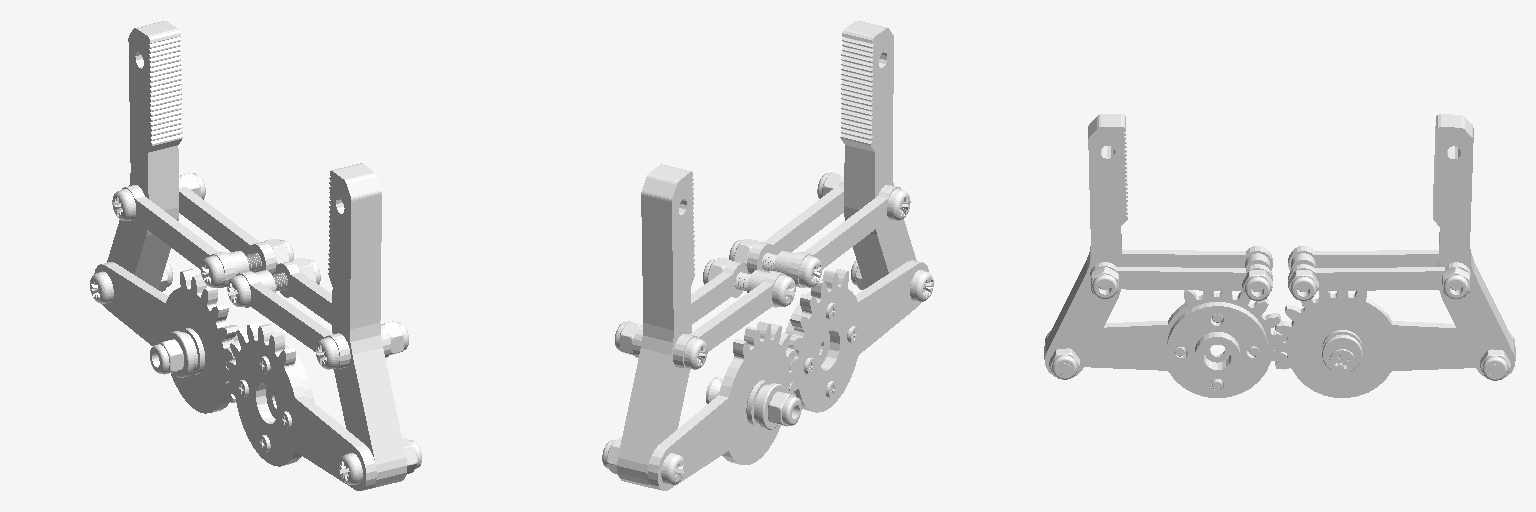
robot.urdf — dofbot:
<?xml version="1.0" ?>
<!-- =================================================================================== -->
<!-- |    This document was autogenerated by xacro from /home/roberto/Dev/robot-x/mujoco_ws/install/robotx_description/share/robotx_description/urdf/robotx_position.urdf | -->
<!-- |    EDITING THIS FILE BY HAND IS NOT RECOMMENDED                                 | -->
<!-- =================================================================================== -->
<robot name="dofbot">
  <!-- ================= MATERIALS ================= -->
  <material name="black">
    <color rgba="0 0 0 1"/>
  </material>
  <material name="green">
    <color rgba="0 1 0 1"/>
  </material>
  <material name="white">
    <color rgba="1 1 1 1"/>
  </material>
  <material name="gray">
    <color rgba="0.59 0.66 0.68 1"/>
  </material>
  <material name="light_green">
    <color rgba="0 0.63 0.23 1"/>
  </material>
  <!-- ================= INERTIAS ================= -->
  <link name="base_link">
    <visual>
      <origin rpy="0 0 0" xyz="0 0 0"/>
      <geometry>
        <mesh filename="package://robotx_description/meshes/base_link.STL"/>
      </geometry>
      <material name="gray">
        </material>
    </visual>
    <collision>
      <origin rpy="0 0 0" xyz="0 0 0"/>
      <geometry>
        <mesh filename="package://robotx_description/meshes/base_link_collider.STL"/>
      </geometry>
    </collision>
    <inertial>
      <origin rpy="0 0 0" xyz="-0.048241 -0.000057 0.021293"/>
      <mass value="0.369954"/>
      <inertia ixx="0.000627914" ixy="5.42014e-07" ixz="-0.000320848" iyy="0.00206292" iyz="5.68107e-07" izz="0.00210302"/>
    </inertial>
  </link>
  <link name="link1">
    <visual>
      <origin rpy="0 0 0" xyz="0 0 0"/>
      <geometry>
        <mesh filename="package://robotx_description/meshes/link1.STL"/>
      </geometry>
      <material name="light_green">
        </material>
    </visual>
    <collision>
      <origin rpy="0 0 0" xyz="0 0 0"/>
      <geometry>
        <mesh filename="package://robotx_description/meshes/link1_collider.STL"/>
      </geometry>
    </collision>
    <inertial>
      <origin rpy="0 0 0" xyz="0.000000 -0.000058 0.017982"/>
      <mass value="0.052133"/>
      <inertia ixx="2.0489e-05" ixy="-4.09574e-11" ixz="-1.96858e-10" iyy="1.68449e-05" iyz="7.50244e-08" izz="1.87563e-05"/>
    </inertial>
  </link>
  <link name="link2">
    <visual>
      <origin rpy="0 0 0" xyz="0 0 0"/>
      <geometry>
        <mesh filename="package://robotx_description/meshes/link2.STL"/>
      </geometry>
      <material name="gray">
        </material>
    </visual>
    <collision>
      <origin rpy="0 0 0" xyz="0 0 0"/>
      <geometry>
        <mesh filename="package://robotx_description/meshes/link2_collider.STL"/>
      </geometry>
    </collision>
    <inertial>
      <origin rpy="0 0 0" xyz="0.024890 -0.002259 0.000081"/>
      <mass value="0.0852143"/>
      <inertia ixx="1.57532e-05" ixy="-2.3667e-06" ixz="4.10319e-07" iyy="7.18242e-05" iyz="2.04186e-08" izz="6.65029e-05"/>
    </inertial>
  </link>
  <link name="link3">
    <visual>
      <origin rpy="0 0 0" xyz="0 0 0"/>
      <geometry>
        <mesh filename="package://robotx_description/meshes/link3.STL"/>
      </geometry>
      <material name="light_green">
        </material>
    </visual>
    <collision>
      <origin rpy="0 0 0" xyz="0 0 0"/>
      <geometry>
        <mesh filename="package://robotx_description/meshes/link3_collider.STL"/>
      </geometry>
    </collision>
    <inertial>
      <origin rpy="0 0 0" xyz="0.024890 -0.002259 0.000651"/>
      <mass value="0.0852113"/>
      <inertia ixx="1.57528e-05" ixy="-2.3675e-06" ixz="3.82539e-07" iyy="7.18221e-05" iyz="2.48634e-08" izz="6.65014e-05"/>
    </inertial>
  </link>
  <link name="link4">
    <visual>
      <origin rpy="0 0 0" xyz="0 0 0"/>
      <geometry>
        <mesh filename="package://robotx_description/meshes/link4.STL"/>
      </geometry>
      <material name="gray">
        </material>
    </visual>
    <collision>
      <origin rpy="0 0 0" xyz="0 0 0"/>
      <geometry>
        <mesh filename="package://robotx_description/meshes/link4_collider.STL"/>
      </geometry>
    </collision>
    <inertial>
      <origin rpy="0 0 0" xyz="0.038494 -0.004349 0.000785"/>
      <mass value="0.160513"/>
      <inertia ixx="7.57127e-05" ixy="-5.61912e-06" ixz="-4.6911e-08" iyy="0.000107106" iyz="-6.26283e-07" izz="0.000162611"/>
    </inertial>
  </link>
  <link name="link5">
    <visual>
      <origin rpy="0 0 0" xyz="0 0 0"/>
      <geometry>
        <mesh filename="package://robotx_description/meshes/link5.STL"/>
      </geometry>
      <material name="light_green">
        </material>
    </visual>
    <collision>
      <origin rpy="0 0 0" xyz="0 0 0"/>
      <geometry>
        <mesh filename="package://robotx_description/meshes/link5_collider.STL"/>
      </geometry>
    </collision>
    <inertial>
      <origin rpy="0 0 0" xyz="0.002194 0.017899 0.029433"/>
      <mass value="0.11192"/>
      <inertia ixx="3.11801e-05" ixy="-5.57049e-07" ixz="-6.73702e-07" iyy="2.79208e-05" iyz="-4.97005e-06" izz="3.62525e-05"/>
    </inertial>
  </link>
  <link name="link5a1">
    <visual>
      <origin rpy="0 0 0" xyz="0 0 0"/>
      <geometry>
        <mesh filename="package://robotx_description/meshes/link5a1.STL"/>
      </geometry>
      <material name="white">
        </material>
    </visual>
    <collision>
      <origin rpy="0 0 0" xyz="0 0 0"/>
      <geometry>
        <mesh filename="package://robotx_description/meshes/link5a1_collider.STL"/>
      </geometry>
    </collision>
    <inertial>
      <origin rpy="0 0 0" xyz="0.006493 0.000318 0.004269"/>
      <mass value="0.00542231"/>
      <inertia ixx="1.55742e-07" ixy="1.46659e-08" ixz="3.18943e-08" iyy="8.58889e-07" iyz="-2.09857e-09" izz="9.59872e-07"/>
    </inertial>
  </link>
  <link name="link5b1">
    <visual>
      <origin rpy="0 0 0" xyz="0 0 0"/>
      <geometry>
        <mesh filename="package://robotx_description/meshes/link5b1.STL"/>
      </geometry>
      <material name="white">
        </material>
    </visual>
    <collision>
      <origin rpy="0 0 0" xyz="0 0 0"/>
      <geometry>
        <mesh filename="package://robotx_description/meshes/link5b1_collider.STL"/>
      </geometry>
    </collision>
    <inertial>
      <origin rpy="0 0 0" xyz="-0.007172 0.000257 0.000650"/>
      <mass value="0.00487536"/>
      <inertia ixx="1.30783e-07" ixy="-1.93309e-08" ixz="-6.3004e-08" iyy="8.1377e-07" iyz="-9.54694e-10" izz="8.58767e-07"/>
    </inertial>
  </link>
  <link name="link5a2">
    <visual>
      <origin rpy="0 0 0" xyz="0 0 0"/>
      <geometry>
        <mesh filename="package://robotx_description/meshes/link5a2.STL"/>
      </geometry>
      <material name="white">
        </material>
    </visual>
    <collision>
      <origin rpy="0 0 0" xyz="0 0 0"/>
      <geometry>
        <mesh filename="package://robotx_description/meshes/link5a2_collider.STL"/>
      </geometry>
    </collision>
    <inertial>
      <origin rpy="0 0 0" xyz="-0.006191 0.022587 -0.003138"/>
      <mass value="0.00624262"/>
      <inertia ixx="1.52974e-06" ixy="2.46533e-07" ixz="4.03941e-10" iyy="9.90392e-08" iyz="-1.95022e-08" izz="1.59847e-06"/>
    </inertial>
  </link>
  <link name="link5b2">
    <visual>
      <origin rpy="0 0 0" xyz="0 0 0"/>
      <geometry>
        <mesh filename="package://robotx_description/meshes/link5b2.STL"/>
      </geometry>
      <material name="white">
        </material>
    </visual>
    <collision>
      <origin rpy="0 0 0" xyz="0 0 0"/>
      <geometry>
        <mesh filename="package://robotx_description/meshes/link5b2_collider.STL"/>
      </geometry>
    </collision>
    <inertial>
      <origin rpy="0 0 0" xyz="0.006021 0.022633 -0.003000"/>
      <mass value="0.00624262"/>
      <inertia ixx="1.53693e-06" ixy="-2.35784e-07" ixz="7.87104e-14" iyy="9.89977e-08" iyz="5.22151e-13" izz="1.59847e-06"/>
    </inertial>
  </link>
  <link name="link5a3">
    <visual>
      <origin rpy="0 0 0" xyz="0 0 0"/>
      <geometry>
        <mesh filename="package://robotx_description/meshes/link5a3.STL"/>
      </geometry>
      <material name="white">
        </material>
    </visual>
    <collision>
      <origin rpy="0 0 0" xyz="0 0 0"/>
      <geometry>
        <mesh filename="package://robotx_description/meshes/link5a3_collider.STL"/>
      </geometry>
    </collision>
    <inertial>
      <origin rpy="0 0 0" xyz="0.014410 0.000216 -0.000686"/>
      <mass value="0.00258849"/>
      <inertia ixx="5.83703e-08" ixy="-5.9177e-09" ixz="3.32641e-09" iyy="4.53009e-07" iyz="5.00492e-11" izz="4.0352e-07"/>
    </inertial>
  </link>
  <link name="link5b3">
    <visual>
      <origin rpy="0 0 0" xyz="0 0 0"/>
      <geometry>
        <mesh filename="package://robotx_description/meshes/link5b3.STL"/>
      </geometry>
      <material name="white">
        </material>
    </visual>
    <collision>
      <origin rpy="0 0 0" xyz="0 0 0"/>
      <geometry>
        <mesh filename="package://robotx_description/meshes/link5b3_collider.STL"/>
      </geometry>
    </collision>
    <inertial>
      <origin rpy="0 0 0" xyz="-0.014411 0.000175 -0.000686"/>
      <mass value="0.00258849"/>
      <inertia ixx="5.83396e-08" ixy="4.78574e-09" ixz="-3.32675e-09" iyy="4.5304e-07" iyz="4.01951e-11" izz="4.0352e-07"/>
    </inertial>
  </link>
  <link name="linkcam">
    </link>
  <joint name="joint1" type="revolute">
    <origin rpy="0 0 0" xyz="0 0 0.0607"/>
    <parent link="base_link"/>
    <child link="link1"/>
    <axis xyz="0 0 1"/>
    <limit acceleration="10.0" effort="10.0" lower="-2" upper="2" velocity="10.0"/>
  </joint>
  <joint name="joint2" type="revolute">
    <origin rpy="-1.5707963267948966 -1.5707963267948966 0" xyz="0 -0.00031873 0.04145"/>
    <parent link="link1"/>
    <child link="link2"/>
    <axis xyz="0 0 1"/>
    <limit acceleration="10.0" effort="10.0" lower="-2" upper="2" velocity="10.0"/>
  </joint>
  <joint name="joint3" type="revolute">
    <origin rpy="0 0 0" xyz="0.08285 0 0"/>
    <parent link="link2"/>
    <child link="link3"/>
    <axis xyz="0 0 1"/>
    <limit acceleration="10.0" effort="10.0" lower="-2" upper="2" velocity="10.0"/>
  </joint>
  <joint name="joint4" type="revolute">
    <origin rpy="0 0 0" xyz="0.08285 0 0"/>
    <parent link="link3"/>
    <child link="link4"/>
    <axis xyz="0 0 1"/>
    <limit acceleration="10.0" effort="10.0" lower="-2" upper="2" velocity="10.0"/>
  </joint>
  <joint name="joint5" type="revolute">
    <origin rpy="0 1.5707963267948966 0" xyz="0.07385 -0.001 0"/>
    <parent link="link4"/>
    <child link="link5"/>
    <axis xyz="0 0 1"/>
    <limit acceleration="10.0" effort="10.0" lower="-2" upper="2" velocity="10.0"/>
  </joint>
  <joint name="joint5a1" type="revolute">
    <origin rpy="1.5707963267948966 0 0" xyz="0.0124 0.001 0.0322"/>
    <parent link="link5"/>
    <child link="link5a1"/>
    <axis xyz="0 0 1"/>
    <limit acceleration="10.0" effort="10.0" lower="-2" upper="2" velocity="10.0"/>
  </joint>
  <joint name="joint5a2" type="revolute">
    <origin rpy="0 0 0" xyz="0.03 0 0.0045"/>
    <parent link="link5a1"/>
    <child link="link5a2"/>
    <axis xyz="0 0 1"/>
    <limit acceleration="10.0" effort="10.0" lower="-2" upper="2" velocity="10.0"/>
  </joint>
  <joint name="joint5a3" type="revolute">
    <origin rpy="1.5707963267948966 0 0" xyz="0.0045 -0.0005 0.0502"/>
    <parent link="link5"/>
    <child link="link5a3"/>
    <axis xyz="0 0 1"/>
    <limit acceleration="10.0" effort="10.0" lower="-2" upper="2" velocity="10.0"/>
  </joint>
  <joint name="joint5b1" type="revolute">
    <origin rpy="1.5707963267948966 0 0" xyz="-0.01215 -0.0035 0.0322"/>
    <parent link="link5"/>
    <child link="link5b1"/>
    <axis xyz="0 0 1"/>
    <limit acceleration="10.0" effort="10.0" lower="-2" upper="2" velocity="10.0"/>
  </joint>
  <joint name="joint5b2" type="revolute">
    <origin rpy="0 0 0" xyz="-0.03 -0.0002 0"/>
    <parent link="link5b1"/>
    <child link="link5b2"/>
    <axis xyz="0 0 1"/>
    <limit acceleration="10.0" effort="10.0" lower="-2" upper="2" velocity="10.0"/>
  </joint>
  <joint name="joint5b3" type="revolute">
    <origin rpy="1.5707963267948966 0 0" xyz="-0.0045 -0.0005 0.0502"/>
    <parent link="link5"/>
    <child link="link5b3"/>
    <axis xyz="0 0 1"/>
    <limit acceleration="10.0" effort="10.0" lower="-2" upper="2" velocity="10.0"/>
  </joint>
  <joint name="jointcamera" type="fixed">
    <origin rpy="0 0 0" xyz="0.0697 0.0481 0.0006"/>
    <parent link="link4"/>
    <child link="linkcam"/>
    <axis xyz="0 0 1"/>
  </joint>
  <ros2_control name="RobotSystem" type="system">
    <hardware>
      <plugin>mujoco_ros2_control/MujocoSystemInterface</plugin>
      <param name="mujoco_model">
        /home/roberto/Dev/robot-x/mujoco_ws/install/robotx_description/share/robotx_description/mujoco_model/robotx_mujoco.xml
    </param>
    </hardware>
    <joint name="joint1">
      <command_interface name="position"/>
      <state_interface name="position"/>
      <state_interface name="velocity"/>
    </joint>
    <joint name="joint2">
      <command_interface name="position"/>
      <state_interface name="position"/>
      <state_interface name="velocity"/>
    </joint>
    <joint name="joint3">
      <command_interface name="position"/>
      <state_interface name="position"/>
      <state_interface name="velocity"/>
    </joint>
    <joint name="joint4">
      <command_interface name="position"/>
      <state_interface name="position"/>
      <state_interface name="velocity"/>
    </joint>
    <joint name="joint5">
      <command_interface name="position"/>
      <state_interface name="position"/>
      <state_interface name="velocity"/>
    </joint>
    <joint name="joint5a1">
      <command_interface name="position"/>
      <state_interface name="position"/>
      <state_interface name="velocity"/>
    </joint>
    <joint name="joint5a2">
      <state_interface name="position"/>
      <state_interface name="velocity"/>
    </joint>
    <joint name="joint5a3">
      <state_interface name="position"/>
      <state_interface name="velocity"/>
    </joint>
    <joint name="joint5b1">
      <state_interface name="position"/>
      <state_interface name="velocity"/>
    </joint>
    <joint name="joint5b2">
      <state_interface name="position"/>
      <state_interface name="velocity"/>
    </joint>
    <joint name="joint5b3">
      <state_interface name="position"/>
      <state_interface name="velocity"/>
    </joint>
  </ros2_control>
</robot>

--- Render facts (derived) ---
Views: 3 orthographic renders of the robot side by side, from view 1: azimuth 30°, elevation 25°; view 2: azimuth 150°, elevation 25°; view 3: azimuth 270°, elevation 25°.
Robot: dofbot — 13 links, 12 joints (11 revolute, 1 fixed); root link base_link; default pose: all joints at 0.
Visible links, largest first — view 1: link5a2, link5a1, link5b1, link5b2, link5b3, link5a3; view 2: link5b2, link5b1, link5a1, link5a2, link5a3, link5b3; view 3: link5b1, link5a1, link5b2, link5a2, link5a3, link5b3.
Link boxes in pixels (x1,y1,x2,y2): link5a2: (328,163,406,488); link5a1: (226,322,421,490); link5b1: (90,261,240,413); link5b2: (107,21,182,289); link5b3: (112,173,293,287); link5a3: (227,258,408,369); link5b2: (617,164,694,487); link5b1: (602,321,801,490); link5a1: (785,260,933,412); link5a2: (840,21,916,288); link5a3: (729,172,910,287); link5b3: (615,258,795,369); link5b1: (1273,291,1514,397); link5a1: (1045,290,1286,397); link5b2: (1433,114,1515,377); link5a2: (1044,114,1127,376); link5a3: (1090,246,1272,300); link5b3: (1288,246,1470,300).
Bounding box of the posed robot: 0.0215 × 0.0925 × 0.0617 m (x, y, z).
6 mesh visuals loaded from 12 distinct referenced files (6 binary STL); not drawn: 6 (reference not matched to a file when rendering).
